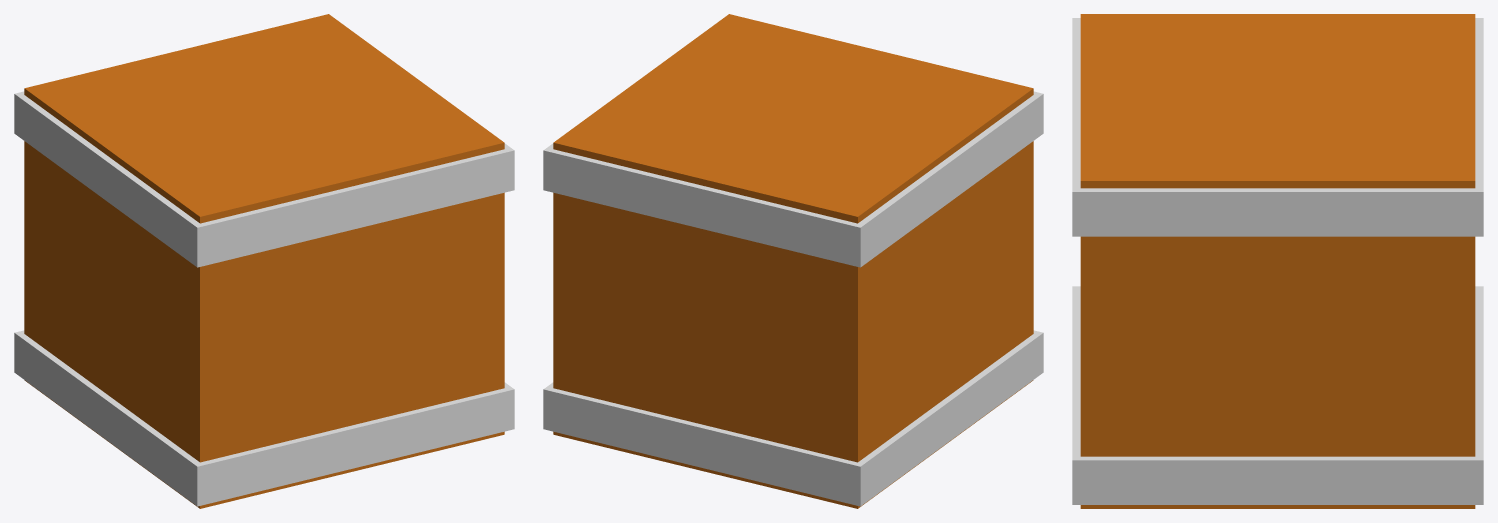
File: goodie_bag.glb
3 views of the same model, side by side, from view 1: azimuth 30°, elevation 25°; view 2: azimuth 150°, elevation 25°; view 3: azimuth 270°, elevation 25° (orthographic). The views are drawn at different scales.
Parts seen in each view (by area): view 1: goodie_bag_v0; view 2: goodie_bag_v0; view 3: goodie_bag_v0.
Part boxes in pixels (<box>): goodie_bag_v0: <box>14,14,514,508</box>; goodie_bag_v0: <box>543,14,1043,508</box>; goodie_bag_v0: <box>1072,14,1483,508</box>.
Bounding box in the file's own units: 0.25 × 0.22 × 0.25.
